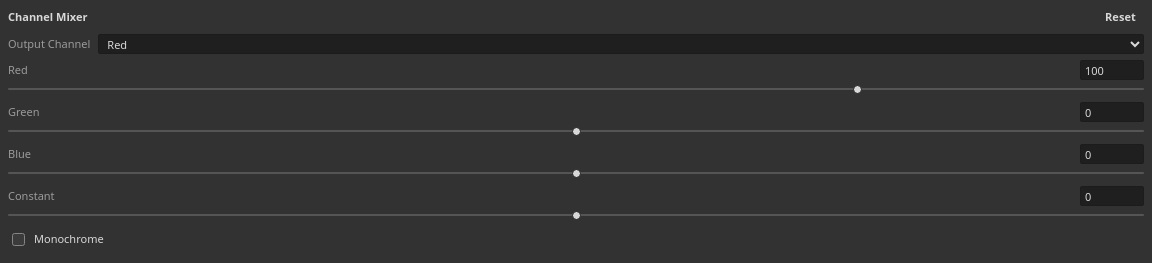
it: Monochrome hides the Channel Mixer's output channel
This screenshot has width=1152, height=263.
Expected: the dropdown labelled "Output Channel" is shown, [98,34,1144,54]
Click the checkbox labelled "Monochrome": click(18, 240) [12,233,25,246]
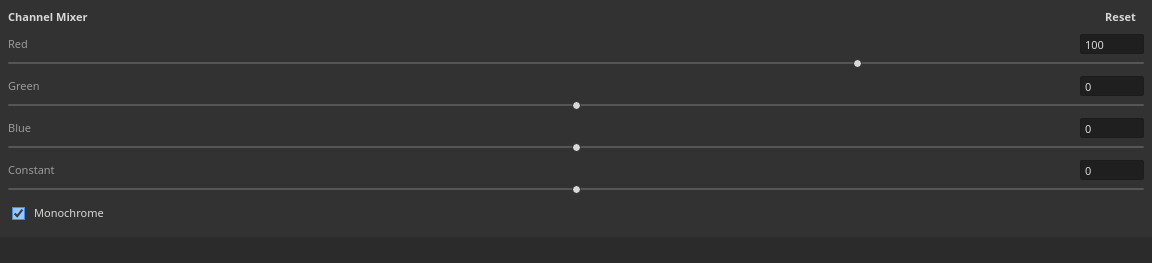
Result: the label "Output Channel" is gone
